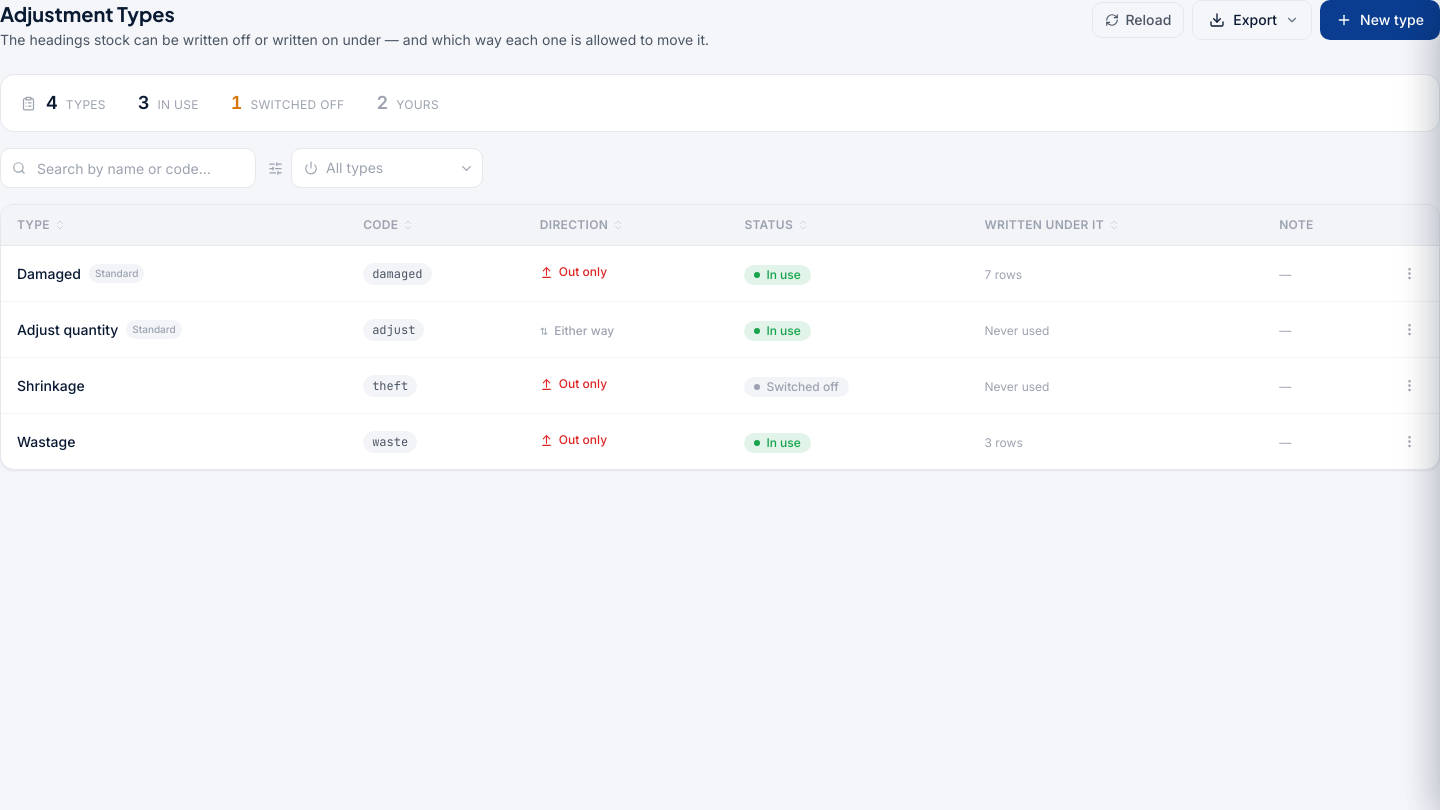
Test: the drawer › will not let the code be changed once the type exists
Click the text "Damaged".
click(49, 274)  # box [17,264,81,284]
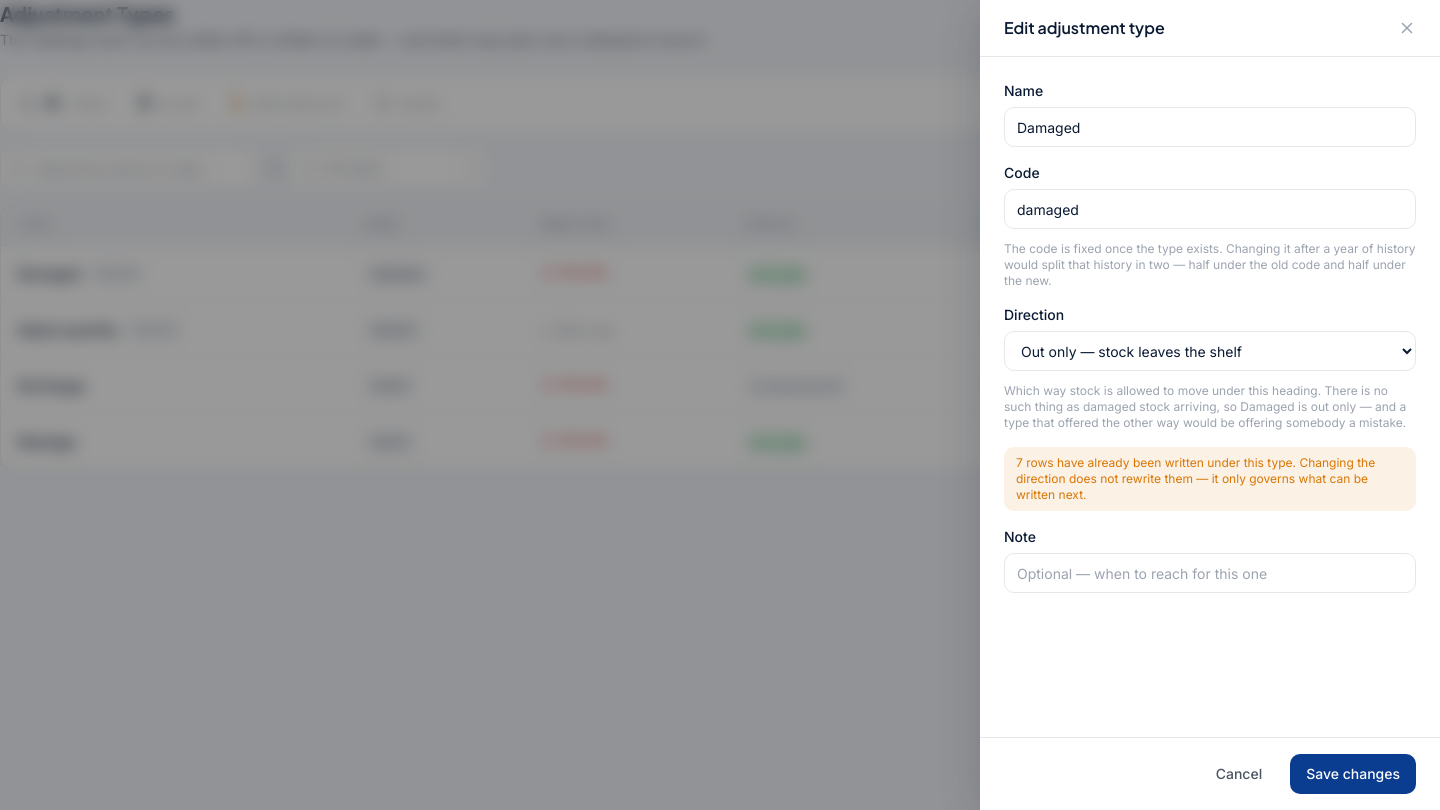
Now the field labelled "Code" is disabled, box [1004,189,1416,229]
Now the field labelled "Code" holds "damaged", box [1004,189,1416,229]
